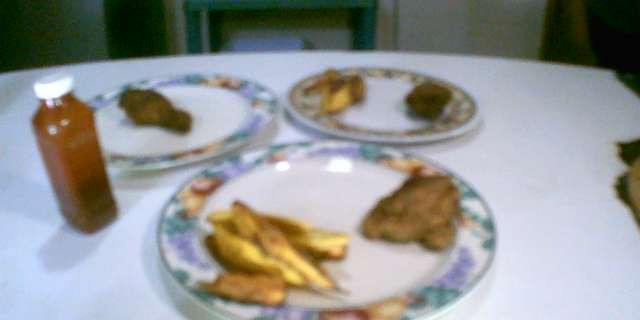chicken: (354, 169, 467, 254), (111, 81, 196, 137), (400, 71, 454, 121)
ketchup_bottle: (24, 67, 123, 242)
potatoe_fries: (199, 186, 352, 310), (308, 62, 368, 118)
